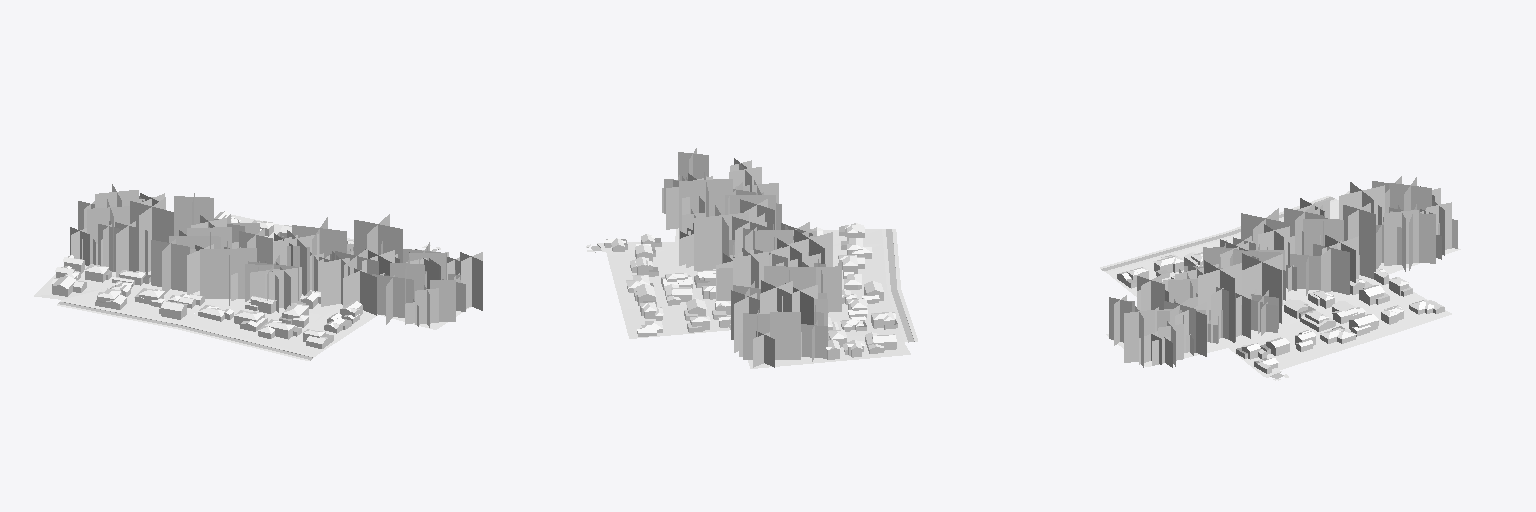
The model's file is Jazz City_0.obj.
3 views of the same model, side by side, from view 1: azimuth 30°, elevation 25°; view 2: azimuth 150°, elevation 25°; view 3: azimuth 270°, elevation 25° (orthographic).
Parts seen in each view (by area): view 1: CreateFan_11, CreateFan_6, CreateFan, CreateFan_1, CreateFan_9, CreateFan_8, CreateFan_3, CreateFan_5, CreateFan_4, CityEngineMaterial_22, CityEngineMaterial_21, CityEngineMaterial_45 (+7 smaller); view 2: CreateFan_11, CreateFan_6, CreateFan, CreateFan_1, CreateFan_9, CityEngineMaterial_5, CreateFan_4, CityEngineMaterial_43, CityEngineMaterial_45, CreateFan_3, CityEngineMaterial_22, CityEngineMaterial_11 (+10 smaller); view 3: CreateFan_11, CreateFan, CreateFan_6, CreateFan_1, CreateFan_9, CreateFan_4, CreateFan_3, CreateFan_8, CreateFan_7, CityEngineMaterial_5, CityEngineMaterial_43, CityEngineMaterial_4 (+6 smaller).
Boxes of the visible parts, x1=… form: CreateFan_11: x1=87, y1=184, x2=402, y2=271; CreateFan_6: x1=70, y1=196, x2=465, y2=311; CreateFan: x1=78, y1=193, x2=482, y2=310; CreateFan_1: x1=96, y1=217, x2=460, y2=324; CreateFan_9: x1=200, y1=214, x2=378, y2=305; CreateFan_8: x1=179, y1=230, x2=376, y2=315; CreateFan_3: x1=174, y1=193, x2=438, y2=327; CreateFan_5: x1=109, y1=221, x2=418, y2=326; CreateFan_4: x1=98, y1=222, x2=455, y2=321; CityEngineMaterial_22: x1=109, y1=275, x2=306, y2=347; CityEngineMaterial_21: x1=88, y1=283, x2=377, y2=355; CityEngineMaterial_45: x1=51, y1=220, x2=274, y2=326; CreateFan_11: x1=679, y1=172, x2=817, y2=324; CreateFan_6: x1=688, y1=173, x2=841, y2=361; CreateFan: x1=678, y1=148, x2=823, y2=359; CreateFan_1: x1=666, y1=176, x2=778, y2=356; CreateFan_9: x1=717, y1=195, x2=832, y2=367; CityEngineMaterial_5: x1=601, y1=242, x2=868, y2=368; CreateFan_4: x1=682, y1=158, x2=827, y2=359; CityEngineMaterial_43: x1=626, y1=303, x2=893, y2=338; CityEngineMaterial_45: x1=640, y1=255, x2=896, y2=349; CreateFan_3: x1=733, y1=236, x2=813, y2=288; CityEngineMaterial_22: x1=833, y1=244, x2=886, y2=321; CityEngineMaterial_11: x1=604, y1=238, x2=883, y2=350; CreateFan_11: x1=1198, y1=176, x2=1431, y2=342; CreateFan: x1=1124, y1=186, x2=1440, y2=367; CreateFan_6: x1=1164, y1=198, x2=1435, y2=352; CreateFan_1: x1=1137, y1=217, x2=1441, y2=364; CreateFan_9: x1=1175, y1=207, x2=1457, y2=343; CreateFan_4: x1=1109, y1=200, x2=1451, y2=345; CreateFan_3: x1=1128, y1=203, x2=1375, y2=331; CreateFan_8: x1=1163, y1=231, x2=1320, y2=355; CreateFan_7: x1=1152, y1=222, x2=1401, y2=367; CityEngineMaterial_5: x1=1234, y1=248, x2=1460, y2=376; CityEngineMaterial_43: x1=1280, y1=219, x2=1451, y2=323; CityEngineMaterial_4: x1=1259, y1=331, x2=1335, y2=367.
Size of the model in its own units: 229 by 42.54 by 196.